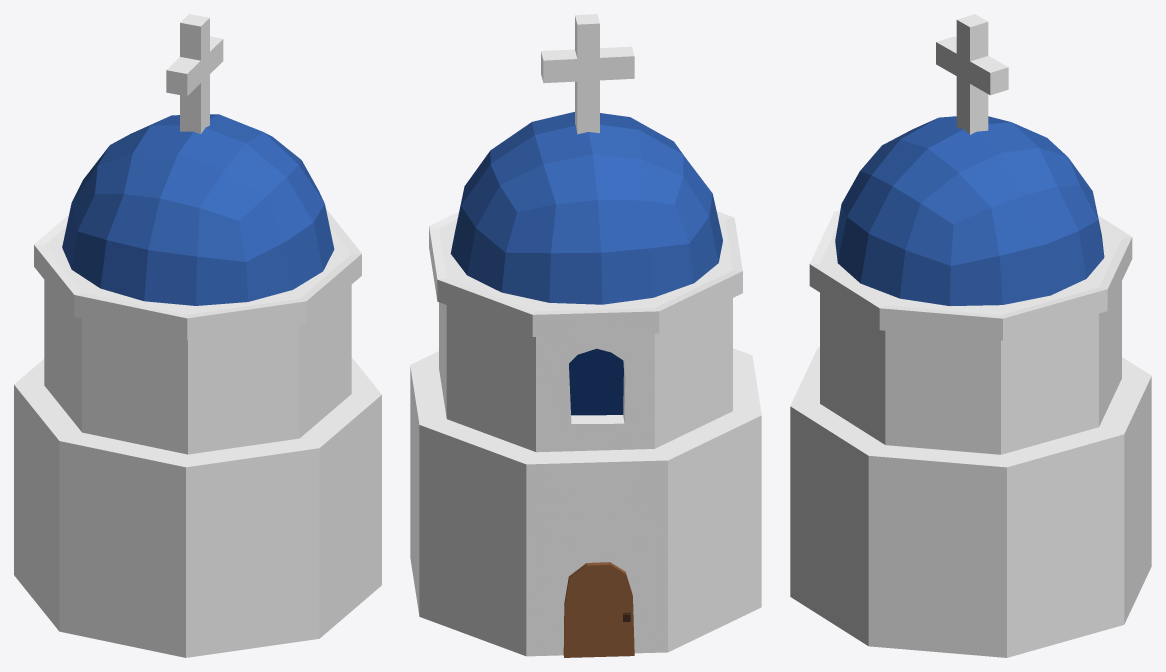
Rendered from church_01.fbx.
3 renders of one model, left to right at view 1: azimuth 30°, elevation 25°; view 2: azimuth 150°, elevation 25°; view 3: azimuth 270°, elevation 25°, orthographic.
Visible parts, largest first — view 1: church_01; view 2: church_01; view 3: church_01.
Part boxes in pixels (x1,y1,x2,y2): church_01: [14, 14, 381, 657]; church_01: [410, 14, 761, 657]; church_01: [790, 14, 1151, 657].
Bounding box in the file's own units: 630 × 1076 × 630.
Materials: 1 (1 with a texture image).
